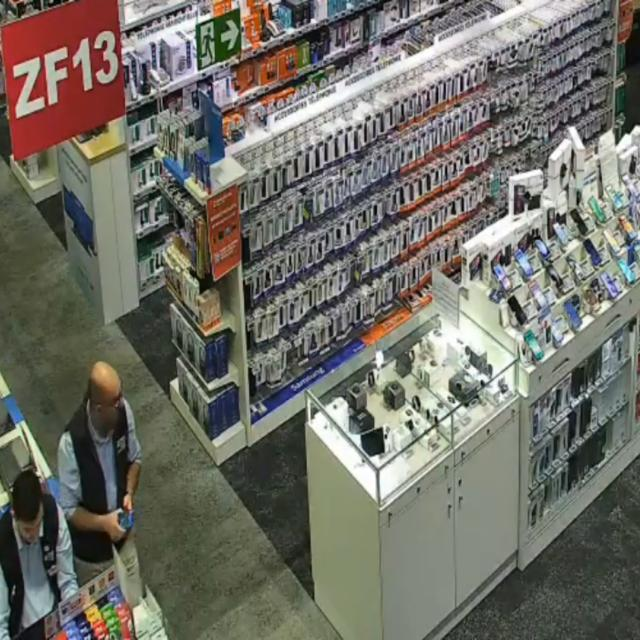hands: (104, 511, 125, 543), (123, 494, 133, 513)
person: (58, 363, 141, 584), (0, 470, 77, 639)
